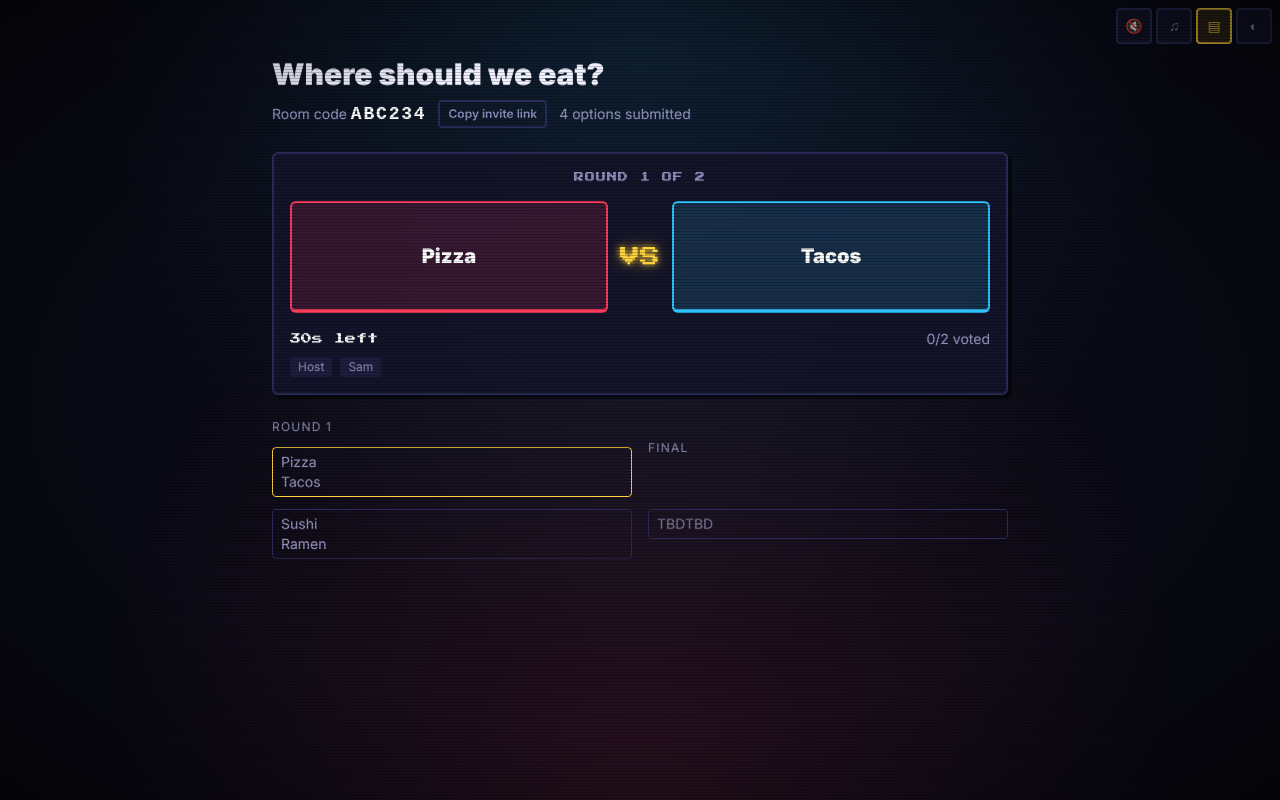
Scenario: matchup screen › casts a vote and highlights my choice
The width and height of the screenshot is (1280, 800).
Click the button with aria-label "vote for tacos" at (831,257), box left=672, top=201, right=990, bottom=313
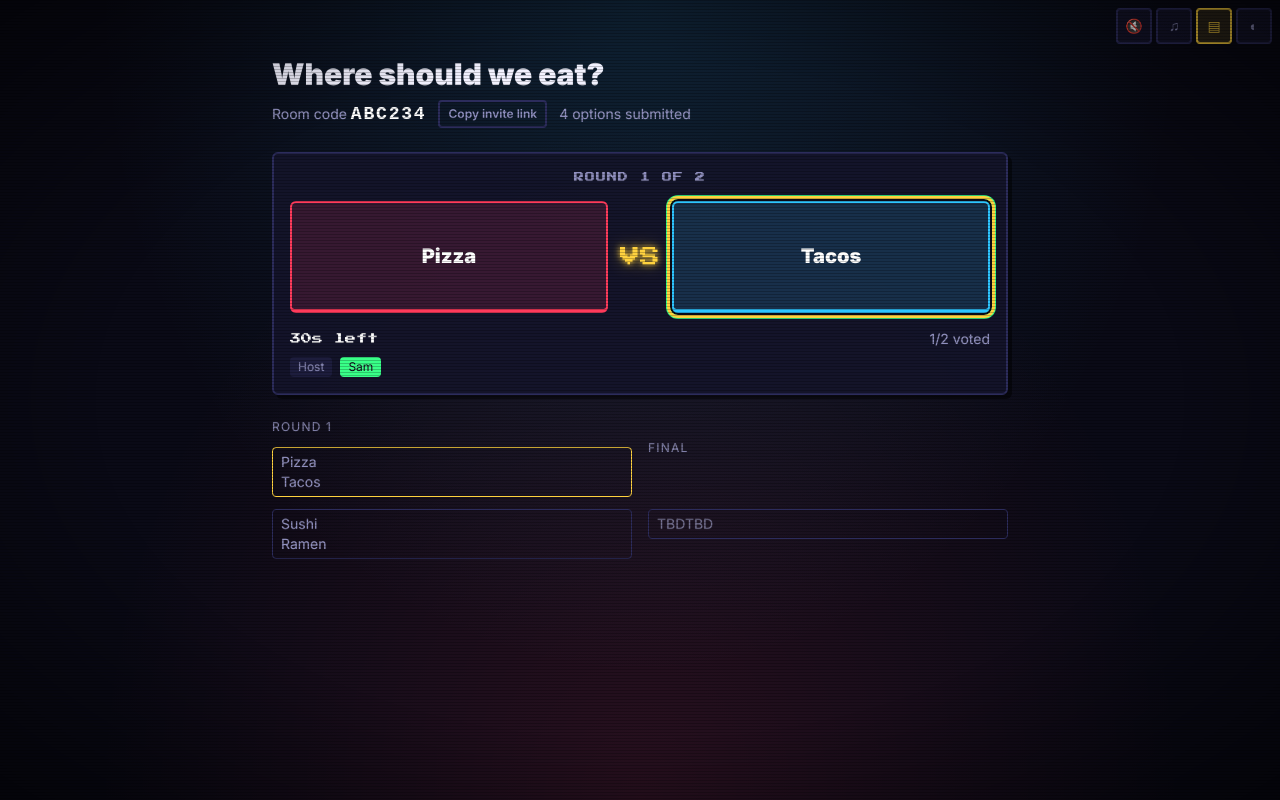
Expected: the text "1/2 voted" is shown, left=930, top=329, right=990, bottom=349
